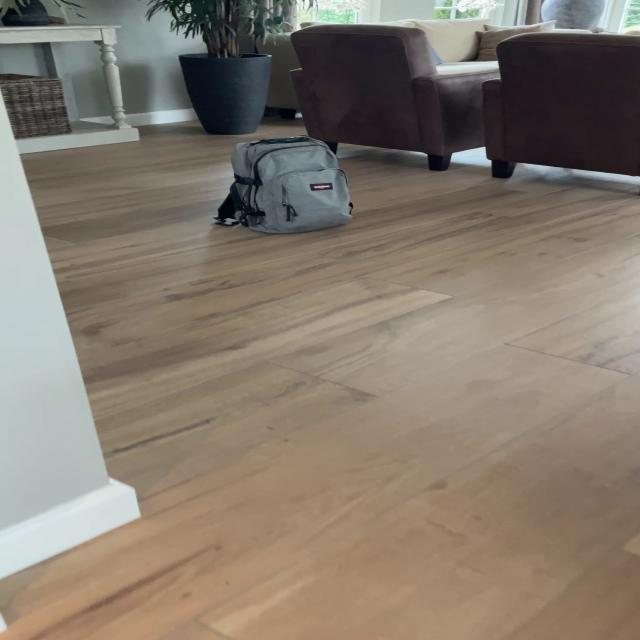backpack: (211, 130, 360, 238)
